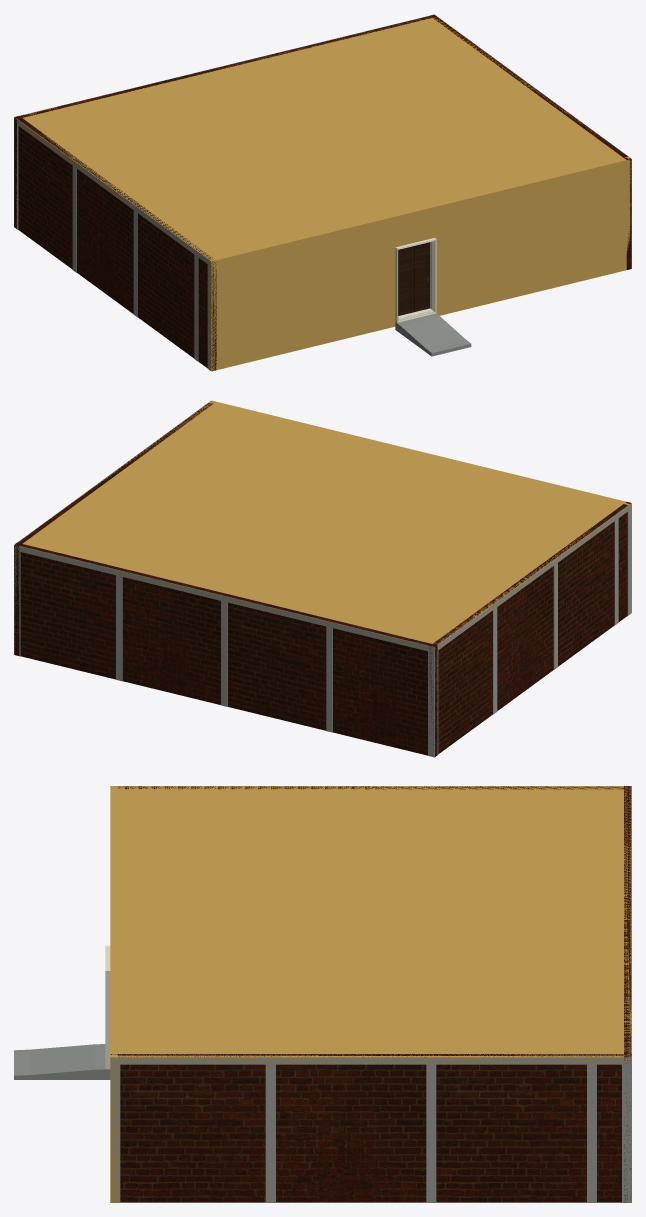
The model's file is building.glb.
3 views of the same model, one above another, from view 1: azimuth 30°, elevation 25°; view 2: azimuth 150°, elevation 25°; view 3: azimuth 270°, elevation 25° (orthographic). The views are drawn at different scales.
Parts seen in each view (by area): view 1: roof/house:0/roof_slab#0001, house:0/edge0/z0/house:0/edge0/z0/wall_0_0, house:0/edge3/z0/house:0/edge3/z0/wall_0_0, entrance/rampa_corta/entrance_ramp#0001, house:0/edge2/z0/house:0/edge2/z0/wall_0_0, house:0/edge1/z0/house:0/edge1/z0/wall_0_0, house:0/edge3/z0/house:0/edge3/z0/beam_0_0, house:0/edge3/z0/house:0/edge3/z0/column_3_0, house:0/edge3/z0/house:0/edge3/z0/column_4_0, house:0/edge3/z0/house:0/edge3/z0/column_2_0; view 2: roof/house:0/roof_slab#0001, house:0/edge2/z0/house:0/edge2/z0/wall_0_0, house:0/edge3/z0/house:0/edge3/z0/wall_0_0, house:0/edge2/z0/house:0/edge2/z0/beam_0_0, house:0/edge1/z0/house:0/edge1/z0/wall_0_0, house:0/edge0/z0/house:0/edge0/z0/wall_0_0, house:0/edge3/z0/house:0/edge3/z0/beam_0_0, house:0/edge2/z0/house:0/edge2/z0/column_1_0, house:0/edge2/z0/house:0/edge2/z0/column_2_0, house:0/edge2/z0/house:0/edge2/z0/column_3_0, house:0/edge2/z0/house:0/edge2/z0/column_4_0, house:0/edge3/z0/house:0/edge3/z0/column_2_0 (+3 smaller); view 3: roof/house:0/roof_slab#0001, house:0/edge1/z0/house:0/edge1/z0/wall_0_0, house:0/edge1/z0/house:0/edge1/z0/beam_0_0, house:0/edge0/z0/house:0/edge0/z0/wall_0_0, entrance/rampa_corta/entrance_ramp#0001, house:0/edge2/z0/house:0/edge2/z0/wall_0_0, house:0/edge1/z0/house:0/edge1/z0/column_2_0, house:0/edge1/z0/house:0/edge1/z0/column_3_0, house:0/edge1/z0/house:0/edge1/z0/column_1_0, house:0/edge1/z0/house:0/edge1/z0/column_4_0, house:0/edge1/z0/house:0/edge1/z0/column_0_0, house:0/edge3/z0/house:0/edge3/z0/wall_0_0 (+1 smaller).
Boxes of the visible parts, x1,y1,x2,y2 form: roof/house:0/roof_slab#0001: (14,16,623,262); house:0/edge0/z0/house:0/edge0/z0/wall_0_0: (208,156,631,371); house:0/edge3/z0/house:0/edge3/z0/wall_0_0: (15,116,216,371); entrance/rampa_corta/entrance_ramp#0001: (395,313,471,356); house:0/edge2/z0/house:0/edge2/z0/wall_0_0: (14,15,435,228); house:0/edge1/z0/house:0/edge1/z0/wall_0_0: (430,14,631,269); house:0/edge3/z0/house:0/edge3/z0/beam_0_0: (14,117,210,264); house:0/edge3/z0/house:0/edge3/z0/column_3_0: (133,210,137,317); house:0/edge3/z0/house:0/edge3/z0/column_4_0: (194,255,198,361); house:0/edge3/z0/house:0/edge3/z0/column_2_0: (72,166,76,272); roof/house:0/roof_slab#0001: (15,400,628,650); house:0/edge2/z0/house:0/edge2/z0/wall_0_0: (15,542,437,756); house:0/edge3/z0/house:0/edge3/z0/wall_0_0: (429,502,630,753); house:0/edge2/z0/house:0/edge2/z0/beam_0_0: (14,544,434,652); house:0/edge1/z0/house:0/edge1/z0/wall_0_0: (14,402,213,655); house:0/edge0/z0/house:0/edge0/z0/wall_0_0: (209,400,631,614); house:0/edge3/z0/house:0/edge3/z0/beam_0_0: (434,505,628,652); house:0/edge2/z0/house:0/edge2/z0/column_1_0: (428,651,434,757); house:0/edge2/z0/house:0/edge2/z0/column_2_0: (116,575,122,681); house:0/edge2/z0/house:0/edge2/z0/column_3_0: (221,601,227,706); house:0/edge2/z0/house:0/edge2/z0/column_4_0: (326,626,332,732); house:0/edge3/z0/house:0/edge3/z0/column_2_0: (493,607,497,714); roof/house:0/roof_slab#0001: (110,786,631,1062); house:0/edge1/z0/house:0/edge1/z0/wall_0_0: (110,1054,631,1202); house:0/edge1/z0/house:0/edge1/z0/beam_0_0: (110,1057,631,1064); house:0/edge0/z0/house:0/edge0/z0/wall_0_0: (110,786,118,1202); entrance/rampa_corta/entrance_ramp#0001: (14,1044,110,1079); house:0/edge2/z0/house:0/edge2/z0/wall_0_0: (624,786,631,1202); house:0/edge1/z0/house:0/edge1/z0/column_2_0: (265,1064,275,1202); house:0/edge1/z0/house:0/edge1/z0/column_3_0: (426,1064,436,1202); house:0/edge1/z0/house:0/edge1/z0/column_1_0: (622,1064,631,1202); house:0/edge1/z0/house:0/edge1/z0/column_4_0: (587,1064,596,1202); house:0/edge1/z0/house:0/edge1/z0/column_0_0: (110,1064,120,1202); house:0/edge3/z0/house:0/edge3/z0/wall_0_0: (118,786,623,789).
Size of the model in its own units: 16 by 4.12 by 15.4.
Materials: 7 (2 with a texture image).
